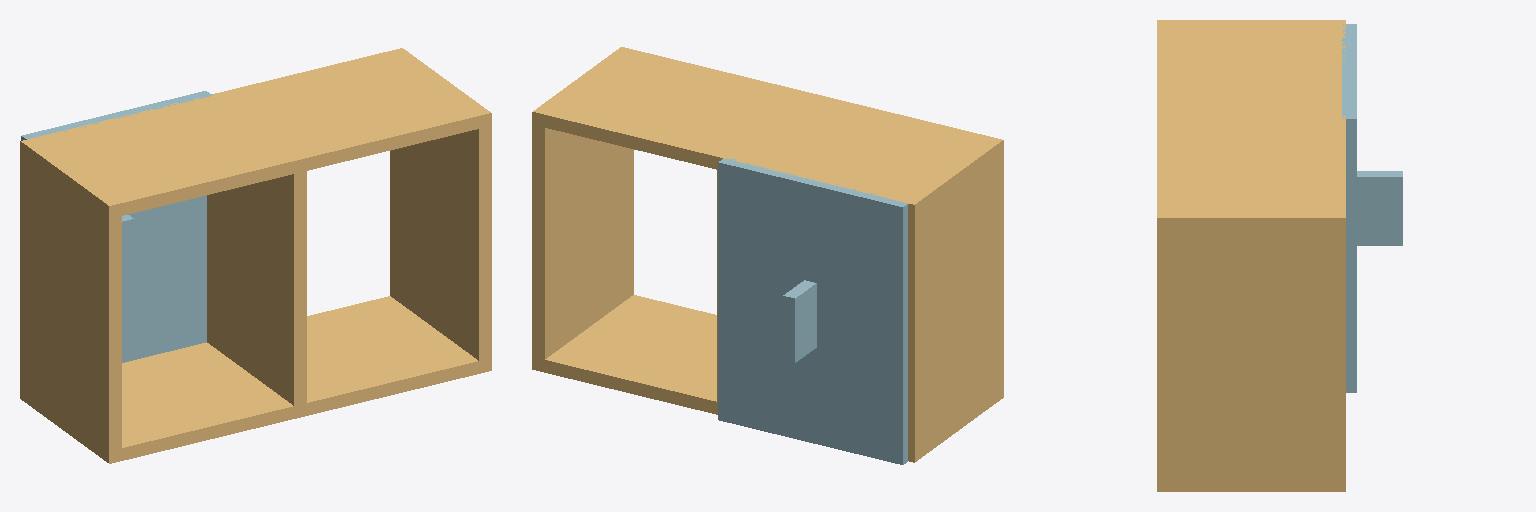
The robot description file, URDF, robot "slide_cabinet.urdf":
<?xml version="1.0" ?>
<robot name="slide_cabinet.urdf">
  <material name="Caramel">
    <color rgba=".95 .8 .54 1"/>
  </material>
  <material name="Glass">
    <color rgba=".66 .8 .84 .5"/>
  </material>
  <link name="base_link">
    <contact>
      <lateral_friction value="1.0"/>
    </contact>
    <inertial>
      <origin rpy="0 0 0" xyz="0 0 0"/>
      <mass value=".0"/>
      <inertia ixx="1" ixy="0" ixz="0" iyy="1" iyz="0" izz="1"/>
    </inertial>
    <visual>
      <origin rpy="0 0 0" xyz=".3 0 0"/>
      <geometry>
				<box size=".02 .25 .4"/>
      </geometry>
      <material name="Caramel"/>
    </visual>
    <collision>
      <origin rpy="0 0 0" xyz=".3 0 0"/>
      <geometry>
				<box size=".02 .25 .4"/>
      </geometry>
    </collision>

    <visual>
      <origin rpy="0 0 0" xyz="0 0 0"/>
      <geometry>
				<box size=".02 .25 .4"/>
      </geometry>
      <material name="Caramel"/>
    </visual>
    <collision>
      <origin rpy="0 0 0" xyz="0 0 0"/>
      <geometry>
				<box size=".02 .25 .4"/>
      </geometry>
    </collision>

    <visual>
      <origin rpy="0 0 0" xyz="-.3 0 0"/>
      <geometry>
				<box size=".02 .25 .4"/>
      </geometry>
      <material name="Caramel"/>
    </visual>
    <collision>
      <origin rpy="0 0 0" xyz="-.3 0 0"/>
      <geometry>
				<box size=".02 .25 .4"/>
      </geometry>
    </collision>

    <visual>
      <origin rpy="0 0 0" xyz="0 0 .19"/>
      <geometry>
				<box size=".6 .25 .02"/>
      </geometry>
      <material name="Caramel"/>
    </visual>
    <collision>
      <origin rpy="0 0 0" xyz="0 0 .19"/>
      <geometry>
				<box size=".6 .25 .02"/>
      </geometry>
    </collision>

    <visual>
      <origin rpy="0 0 0" xyz="0 0 -.19"/>
      <geometry>
				<box size=".6 .25 .02"/>
      </geometry>
      <material name="Caramel"/>
    </visual>
    <collision>
      <origin rpy="0 0 0" xyz="0 0 -.19"/>
      <geometry>
				<box size=".6 .25 .02"/>
      </geometry>
    </collision>
  </link>

  <link name="door_link">
    <contact>
      <lateral_friction value="1.0"/>
    </contact>
    <inertial>
      <origin rpy="0 0 0" xyz="0 0 0"/>
      <mass value=".0"/>
      <inertia ixx="1" ixy="0" ixz="0" iyy="1" iyz="0" izz="1"/>
    </inertial>
    <visual>
      <origin rpy="0 0 0" xyz="-.15 .13 0"/>
      <geometry>
				<box size=".3 .02 .4"/>
      </geometry>
      <material name="Glass"/>
    </visual>
    <collision>
      <origin rpy="0 0 0" xyz="-.15 .13 0"/>
      <geometry>
				<box size=".3 .02 .4"/>
      </geometry>
    </collision>
  </link>
  <link name="handle_link">
    <contact>
      <lateral_friction value="1.0"/>
    </contact>
    <inertial>
      <origin rpy="0 0 0" xyz="0 0 0"/>
      <mass value=".0"/>
      <inertia ixx="1" ixy="0" ixz="0" iyy="1" iyz="0" izz="1"/>
    </inertial>
    <visual>
      <origin rpy="0 0 0" xyz="-.15 .15 0"/>
      <geometry>
				<box size=".02 .1 .1"/>
      </geometry>
      <material name="Glass"/>
    </visual>
    <collision>
      <origin rpy="0 0 0" xyz="-.15 .15 0"/>
      <geometry>
				<box size=".02 .1 .1"/>
      </geometry>
    </collision>
  </link>
  <joint name="slide" type="prismatic">
    <parent link="base_link"/>
    <child link="door_link"/>
    <origin xyz="0 0 0" rpy="0 0 0"/>
    <axis xyz="1 0 0"/>
    <limit lower="-.5" upper="0" effort=".01" velocity="100"/>
  </joint>
  <joint name="handle" type="fixed">
    <parent link="door_link"/>
    <child link="handle_link"/>
    <origin xyz="0 0 0" rpy="0 0 0"/>
  </joint>
</robot>

--- Render facts (derived) ---
3 views of the same robot in one strip: view 1: azimuth 30°, elevation 25°; view 2: azimuth 150°, elevation 25°; view 3: azimuth 270°, elevation 25° (orthographic).
Model slide_cabinet.urdf with 3 links and 2 joints (1 prismatic, 1 fixed), rooted at base_link, posed every joint at zero.
Links seen in each view (by area): view 1: base_link, door_link, handle_link; view 2: base_link, door_link, handle_link; view 3: base_link, door_link, handle_link.
Boxes of the visible links, x1,y1,x2,y2 form: base_link: (20, 48, 491, 463); door_link: (21, 91, 212, 362); handle_link: (122, 215, 133, 285); base_link: (532, 47, 1003, 462); door_link: (718, 158, 907, 464); handle_link: (783, 280, 816, 362); base_link: (1157, 20, 1345, 491); door_link: (1342, 24, 1356, 392); handle_link: (1357, 171, 1402, 245).
Bounding box of the posed robot: 0.62 × 0.325 × 0.4 m (x, y, z).
Geometry: primitives only (box / cylinder / sphere), no mesh files.
